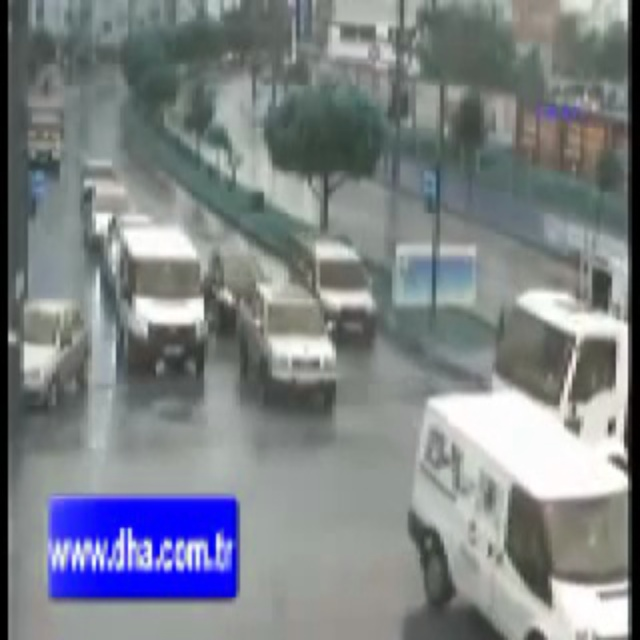acc: (409, 279, 626, 632)
